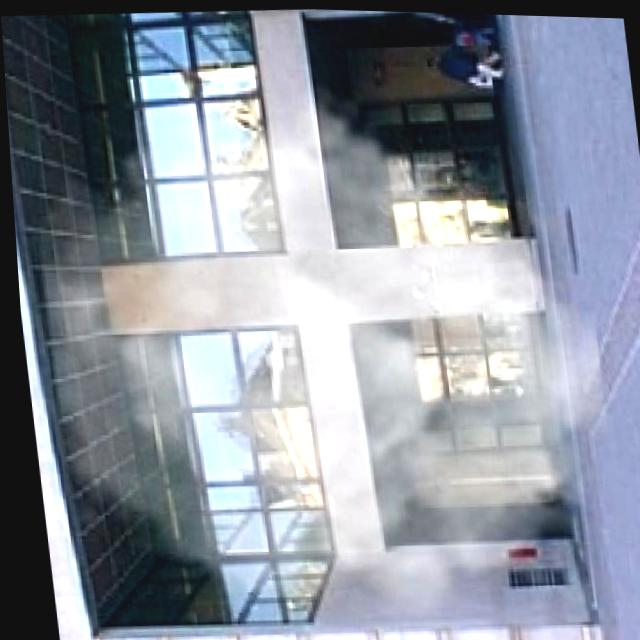Smoke: (18, 71, 622, 640)
